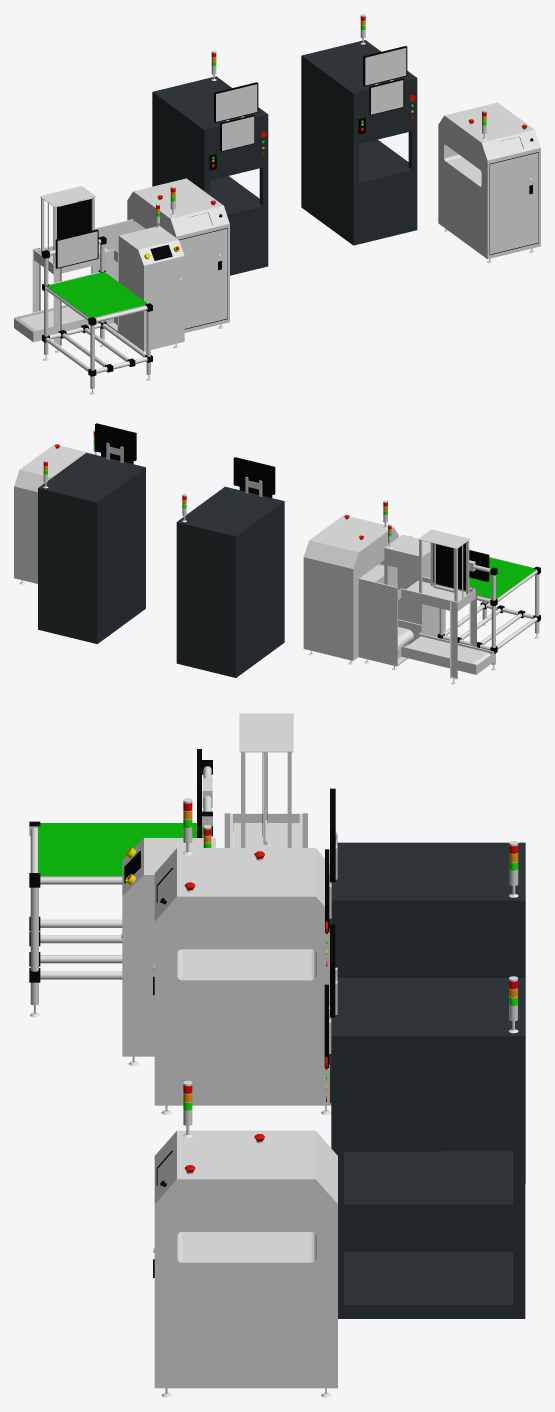
Rendered from conveyor-magazine.glb.
3 renders of one model, top to bottom at view 1: azimuth 30°, elevation 25°; view 2: azimuth 150°, elevation 25°; view 3: azimuth 270°, elevation 25°, orthographic. The views are drawn at different scales.
Visible parts, largest first — view 1: Cube.034, Cube.019, Cube.022, Cube.016, Cube.015, Cylinder.041, Cylinder.180, Cylinder.189, Cylinder.175, Plane.008, Cylinder.190, Cylinder.181 (+8 smaller); view 2: Cube.022, Cube.034, Cube.016, Cube.019, Cube.004, Cube.015, Cylinder.041, Cylinder.180, Cylinder.189, Circle.001, Cube, Cube.010 (+9 smaller); view 3: Cube.034, Cube.019, Cube.016, Cube.022, Cube.015, Cylinder.041, Plane.007, Plane.006, Cylinder.034, Cube.010.
Boxes of the visible parts, <box> form: Cube.034: <box>301,40,417,245</box>; Cube.019: <box>438,102,540,259</box>; Cube.022: <box>152,76,268,275</box>; Cube.016: <box>127,178,229,332</box>; Cube.015: <box>118,225,184,351</box>; Cylinder.041: <box>46,272,147,318</box>; Cylinder.180: <box>214,82,258,122</box>; Cylinder.189: <box>363,46,407,86</box>; Cylinder.175: <box>55,229,98,268</box>; Plane.008: <box>57,199,91,239</box>; Cylinder.190: <box>369,78,404,115</box>; Cylinder.181: <box>220,115,254,151</box>; Cube.022: <box>176,486,284,677</box>; Cube.034: <box>38,453,145,644</box>; Cube.016: <box>303,515,398,660</box>; Cube.019: <box>14,444,100,583</box>; Cube.004: <box>358,578,397,664</box>; Cube.015: <box>384,534,445,637</box>; Cylinder.041: <box>469,557,536,599</box>; Cylinder.180: <box>233,457,275,494</box>; Cylinder.189: <box>95,423,136,460</box>; Circle.001: <box>406,636,490,664</box>; Cube: <box>401,646,476,674</box>; Cube.010: <box>419,540,469,601</box>; Cube.034: <box>331,978,525,1318</box>; Cube.019: <box>154,1130,337,1388</box>; Cube.016: <box>154,848,331,1105</box>; Cube.022: <box>331,842,525,1183</box>; Cube.015: <box>122,838,215,1056</box>; Cylinder.041: <box>38,823,203,877</box>; Plane.007: <box>239,713,293,752</box>; Plane.006: <box>239,823,293,847</box>; Cylinder.034: <box>30,887,38,1005</box>; Cube.010: <box>241,752,291,847</box>.
Size of the model in its own units: 18.24 by 6.89 by 8.64.
